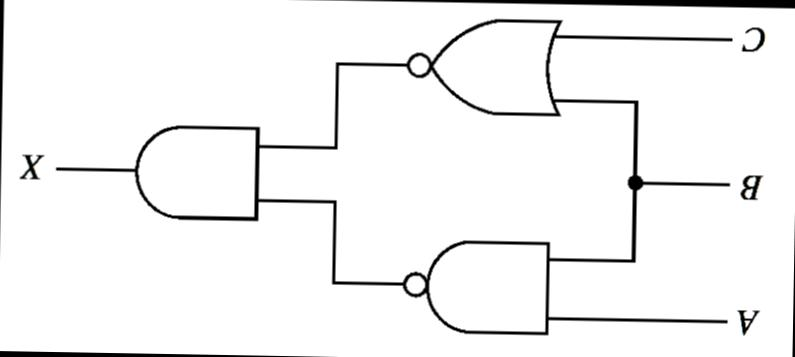and: (119, 116, 272, 226)
nand: (394, 227, 556, 344)
nor: (396, 10, 568, 123)
